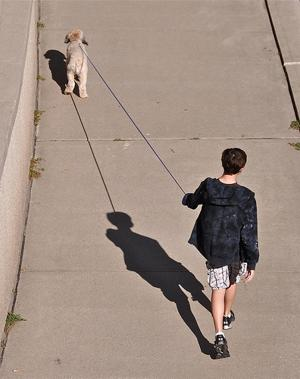person: (182, 144, 259, 355)
